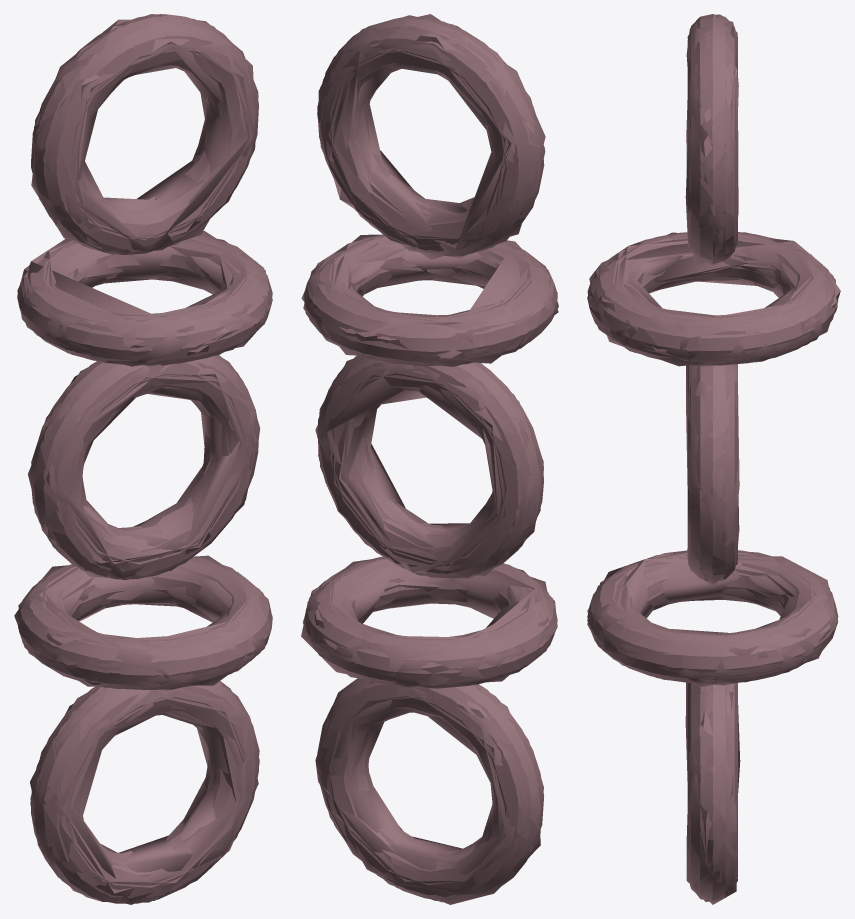
The model's file is SM_Schlachthof_Chain.fbx.
3 views of the same model, side by side, from view 1: azimuth 30°, elevation 25°; view 2: azimuth 150°, elevation 25°; view 3: azimuth 270°, elevation 25° (orthographic).
Parts seen in each view (by area): view 1: LOD0_SM_Schlachthof_Chain, LOD1_SM_Schlachthof_Chain, LOD3_SM_Schlachthof_Chain, LOD2_SM_Schlachthof_Chain; view 2: LOD0_SM_Schlachthof_Chain, LOD1_SM_Schlachthof_Chain, LOD3_SM_Schlachthof_Chain, LOD2_SM_Schlachthof_Chain; view 3: LOD0_SM_Schlachthof_Chain, LOD1_SM_Schlachthof_Chain, LOD3_SM_Schlachthof_Chain, LOD2_SM_Schlachthof_Chain.
Boxes of the visible parts, x1,y1,x2,y2 form: LOD0_SM_Schlachthof_Chain: (17, 14, 272, 903); LOD1_SM_Schlachthof_Chain: (17, 14, 272, 902); LOD3_SM_Schlachthof_Chain: (14, 19, 265, 904); LOD2_SM_Schlachthof_Chain: (18, 14, 270, 901); LOD0_SM_Schlachthof_Chain: (303, 17, 557, 898); LOD1_SM_Schlachthof_Chain: (305, 17, 557, 900); LOD3_SM_Schlachthof_Chain: (301, 14, 558, 904); LOD2_SM_Schlachthof_Chain: (302, 15, 558, 902); LOD0_SM_Schlachthof_Chain: (587, 14, 838, 900); LOD1_SM_Schlachthof_Chain: (587, 14, 838, 900); LOD3_SM_Schlachthof_Chain: (587, 21, 840, 904); LOD2_SM_Schlachthof_Chain: (587, 14, 836, 901).
Bounding box in the file's own units: 0.6153 × 2.28 × 0.6068.
